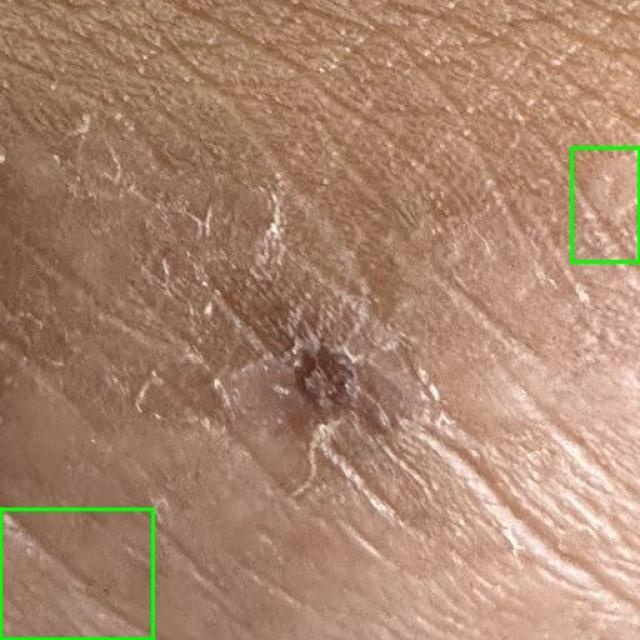Scabies: (0, 509, 154, 639), (571, 148, 639, 261)
